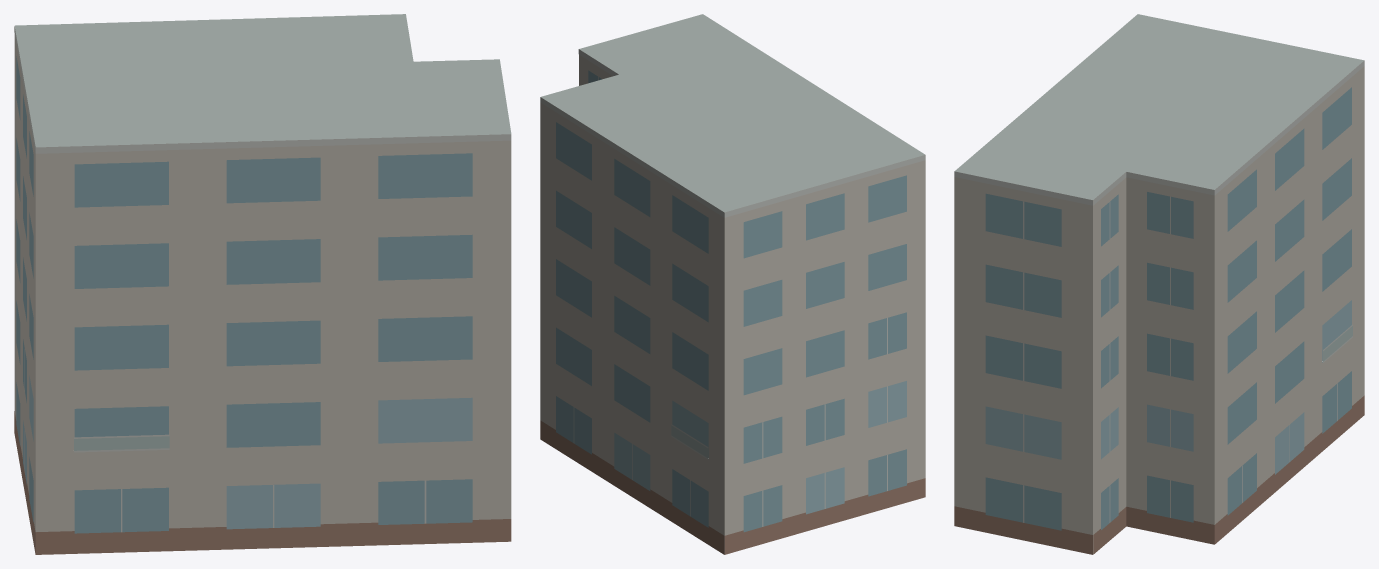
Rendered from survey-upis-32536570.glb.
3 renders of one model, left to right at view 1: azimuth 30°, elevation 25°; view 2: azimuth 150°, elevation 25°; view 3: azimuth 270°, elevation 25°, orthographic. The views are drawn at different scales.
Parts seen in each view (by area): view 1: survey-upis-32536570.tmp; view 2: survey-upis-32536570.tmp; view 3: survey-upis-32536570.tmp.
Boxes of the visible parts, x1,y1,x2,y2 form: survey-upis-32536570.tmp: (14, 14, 511, 554); survey-upis-32536570.tmp: (540, 14, 925, 554); survey-upis-32536570.tmp: (954, 14, 1364, 554).
Bounding box in the file's own units: 17.52 × 15.55 × 16.31.
